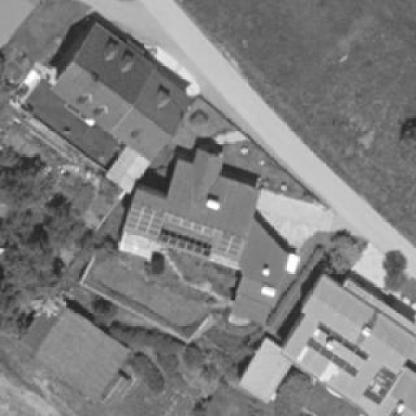solar-pv-panel: (305, 337, 358, 377), (316, 322, 369, 361), (125, 202, 165, 237), (159, 233, 211, 257), (169, 216, 214, 236), (216, 230, 243, 257)
